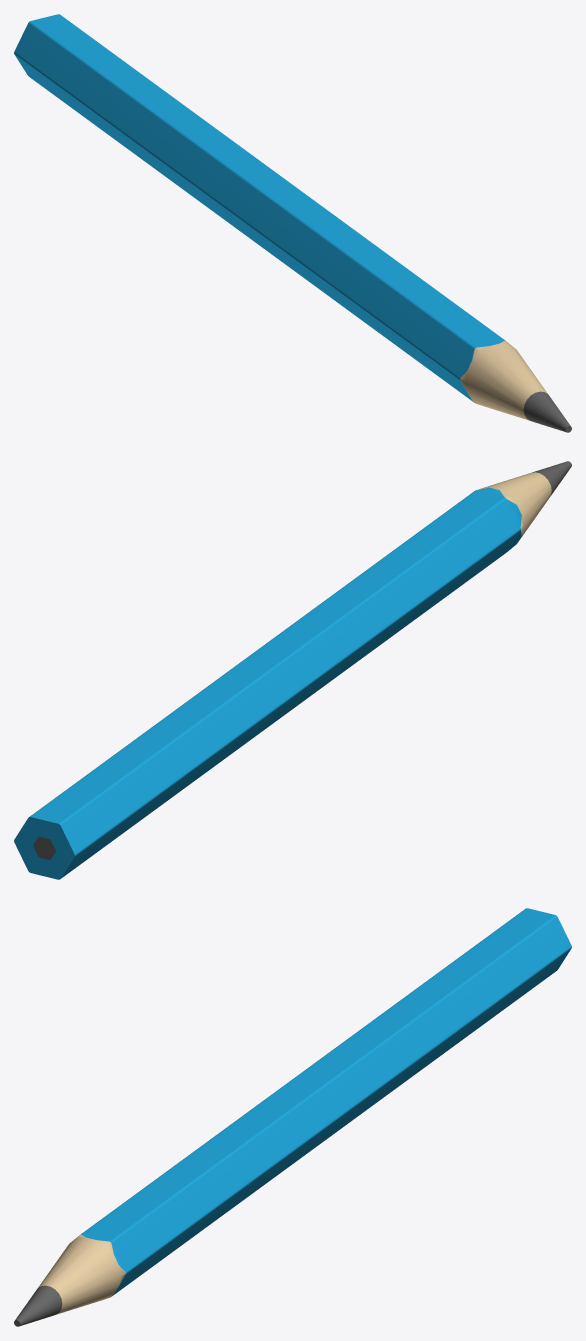
The model's file is pencil_5.glb.
The picture shows the model from 3 angles, top to bottom: view 1: azimuth 30°, elevation 25°; view 2: azimuth 150°, elevation 25°; view 3: azimuth 330°, elevation 25°; orthographic projection.
Parts seen in each view (by area): view 1: pCylinder6; view 2: pCylinder6; view 3: pCylinder6.
Boxes of the visible parts, x1=… form: pCylinder6: x1=14, y1=14, x2=571, y2=432; pCylinder6: x1=14, y1=461, x2=571, y2=879; pCylinder6: x1=14, y1=908, x2=571, y2=1326.
Size of the model in its own units: 1.58 by 1.49 by 23.51.
